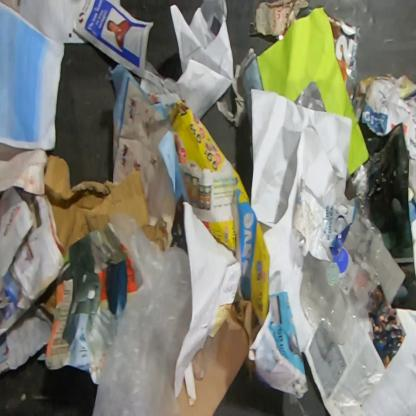cardboard: (257, 6, 370, 176), (38, 231, 138, 385), (44, 155, 170, 250), (175, 290, 263, 416)
rigid_plastic: (300, 198, 384, 345)
soft_plastic: (91, 209, 191, 416)
